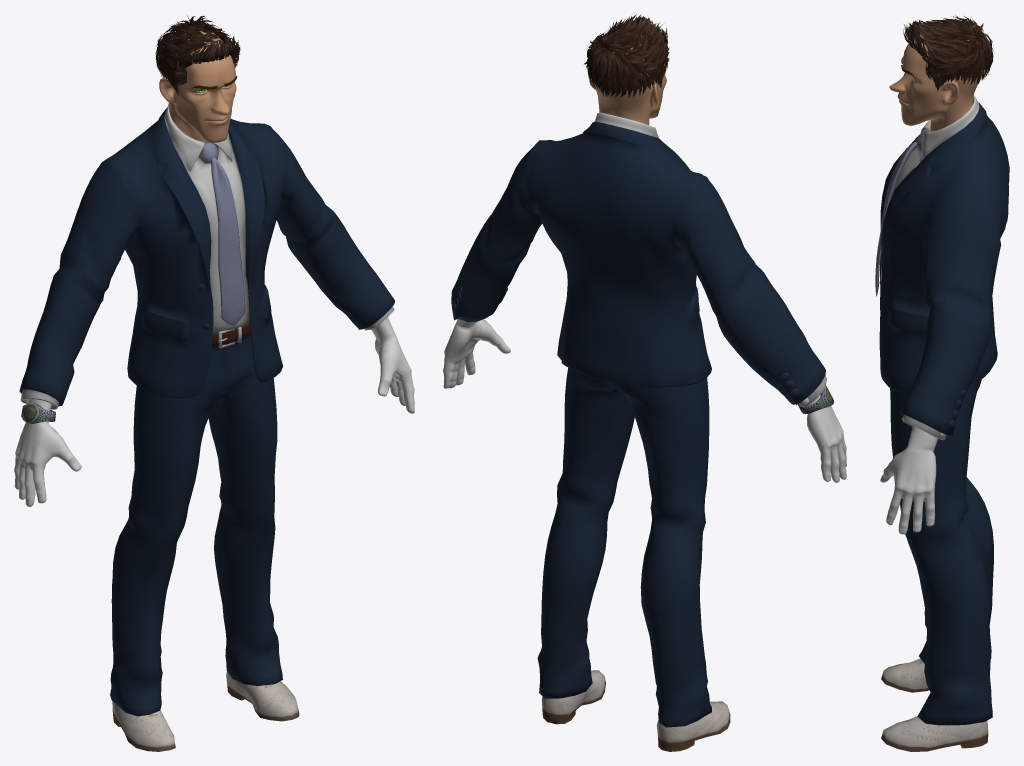
Rendered from M Character 5.fbx.
3 views of the same model, side by side, from view 1: azimuth 30°, elevation 25°; view 2: azimuth 150°, elevation 25°; view 3: azimuth 270°, elevation 25° (orthographic).
Parts seen in each view (by area): view 1: m_suit 2, m_suit pants 2, m_body.001, m_head, m_shoes 6, M_hair 9; view 2: m_suit 2, m_suit pants 2, M_hair 9, m_body.001, m_shoes 6, m_head; view 3: m_suit 2, m_suit pants 2, M_hair 9, m_head, m_shoes 6, m_body.001.
Part boxes in pixels (x1=…): m_suit 2: x1=19, y1=104, x2=394, y2=409; m_suit pants 2: x1=110, y1=324, x2=282, y2=716; m_body.001: x1=14, y1=319, x2=414, y2=506; m_head: x1=159, y1=31, x2=237, y2=142; m_shoes 6: x1=112, y1=672, x2=299, y2=751; M_hair 9: x1=155, y1=15, x2=240, y2=95; m_suit 2: x1=451, y1=112, x2=826, y2=406; m_suit pants 2: x1=537, y1=367, x2=711, y2=727; M_hair 9: x1=584, y1=14, x2=669, y2=97; m_body.001: x1=443, y1=319, x2=846, y2=482; m_shoes 6: x1=542, y1=670, x2=730, y2=751; m_head: x1=589, y1=44, x2=667, y2=125; m_suit 2: x1=875, y1=95, x2=1009, y2=440; m_suit pants 2: x1=890, y1=379, x2=993, y2=725; M_hair 9: x1=903, y1=15, x2=993, y2=91; m_head: x1=889, y1=28, x2=977, y2=131; m_shoes 6: x1=881, y1=658, x2=988, y2=751; m_body.001: x1=880, y1=431, x2=937, y2=534.
Bounding box in the file's own units: 117 × 200 × 35.03.
